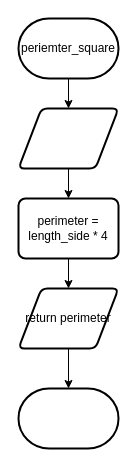
The diagram is 136 pixels wide and 466 high, and some of its shapes have lost their labels. Here are the shapes that lost their labels. From the top down, the centre of each, then its label:
the point at 68,138: get length_side
the point at 68,418: Stop
